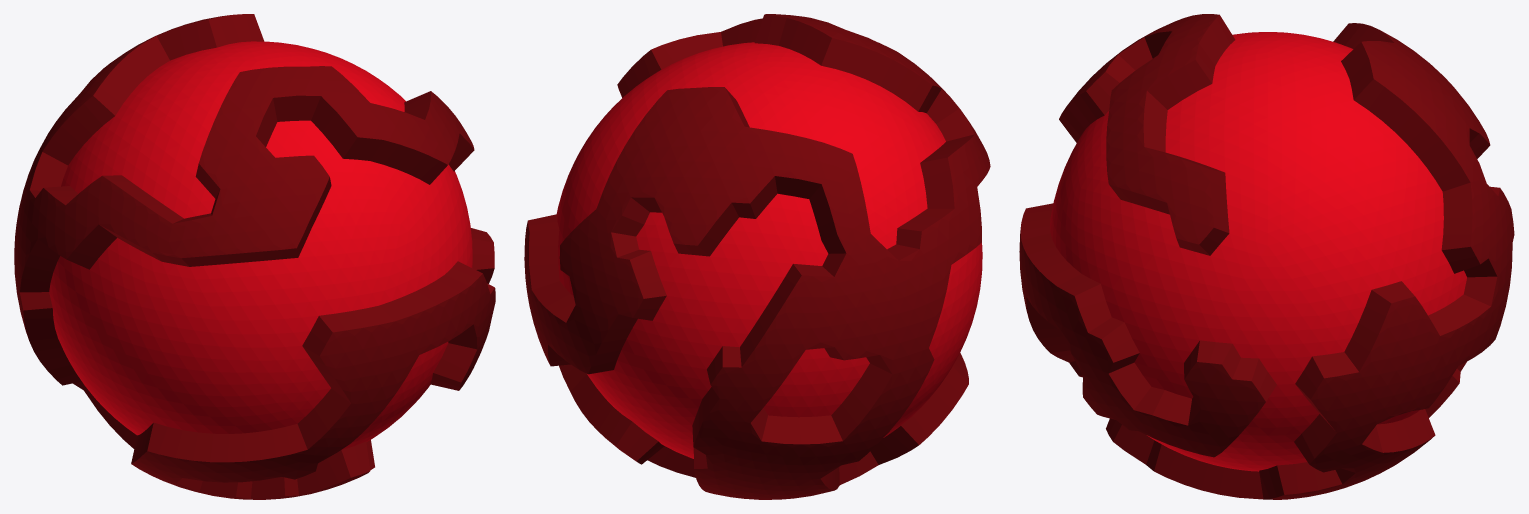
File: Red Rock.fbx
The picture shows the model from 3 angles, left to right: view 1: azimuth 30°, elevation 25°; view 2: azimuth 150°, elevation 25°; view 3: azimuth 270°, elevation 25°; orthographic projection. The views are drawn at different scales.
Visible parts, largest first — view 1: Icosphere; view 2: Icosphere; view 3: Icosphere.
Boxes of the visible parts, left/top/right/bottom form: Icosphere: left=14, top=14, right=495, bottom=499; Icosphere: left=524, top=14, right=990, bottom=499; Icosphere: left=1019, top=14, right=1514, bottom=499.
Size of the model in its own units: 1106 by 1112 by 1125.
